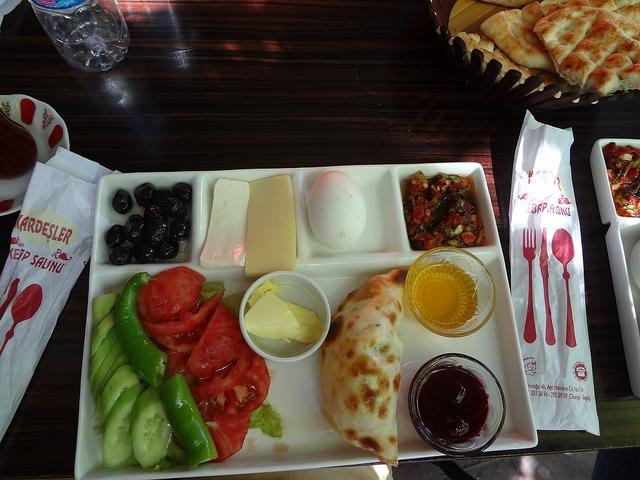cucumber: (102, 382, 151, 468), (130, 384, 173, 468), (97, 364, 140, 426), (92, 338, 124, 408), (95, 350, 132, 408), (90, 324, 118, 386), (91, 307, 116, 360), (92, 292, 120, 331)
tomato: (197, 354, 270, 421), (188, 336, 253, 405), (185, 302, 242, 378), (172, 416, 250, 463), (148, 307, 216, 354), (136, 266, 206, 306), (136, 286, 202, 321), (164, 350, 192, 376), (626, 167, 640, 181), (628, 194, 638, 206), (608, 174, 616, 184)
